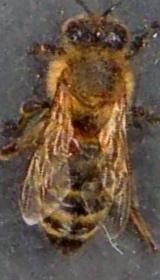varroa_mite: (63, 134, 82, 159)
